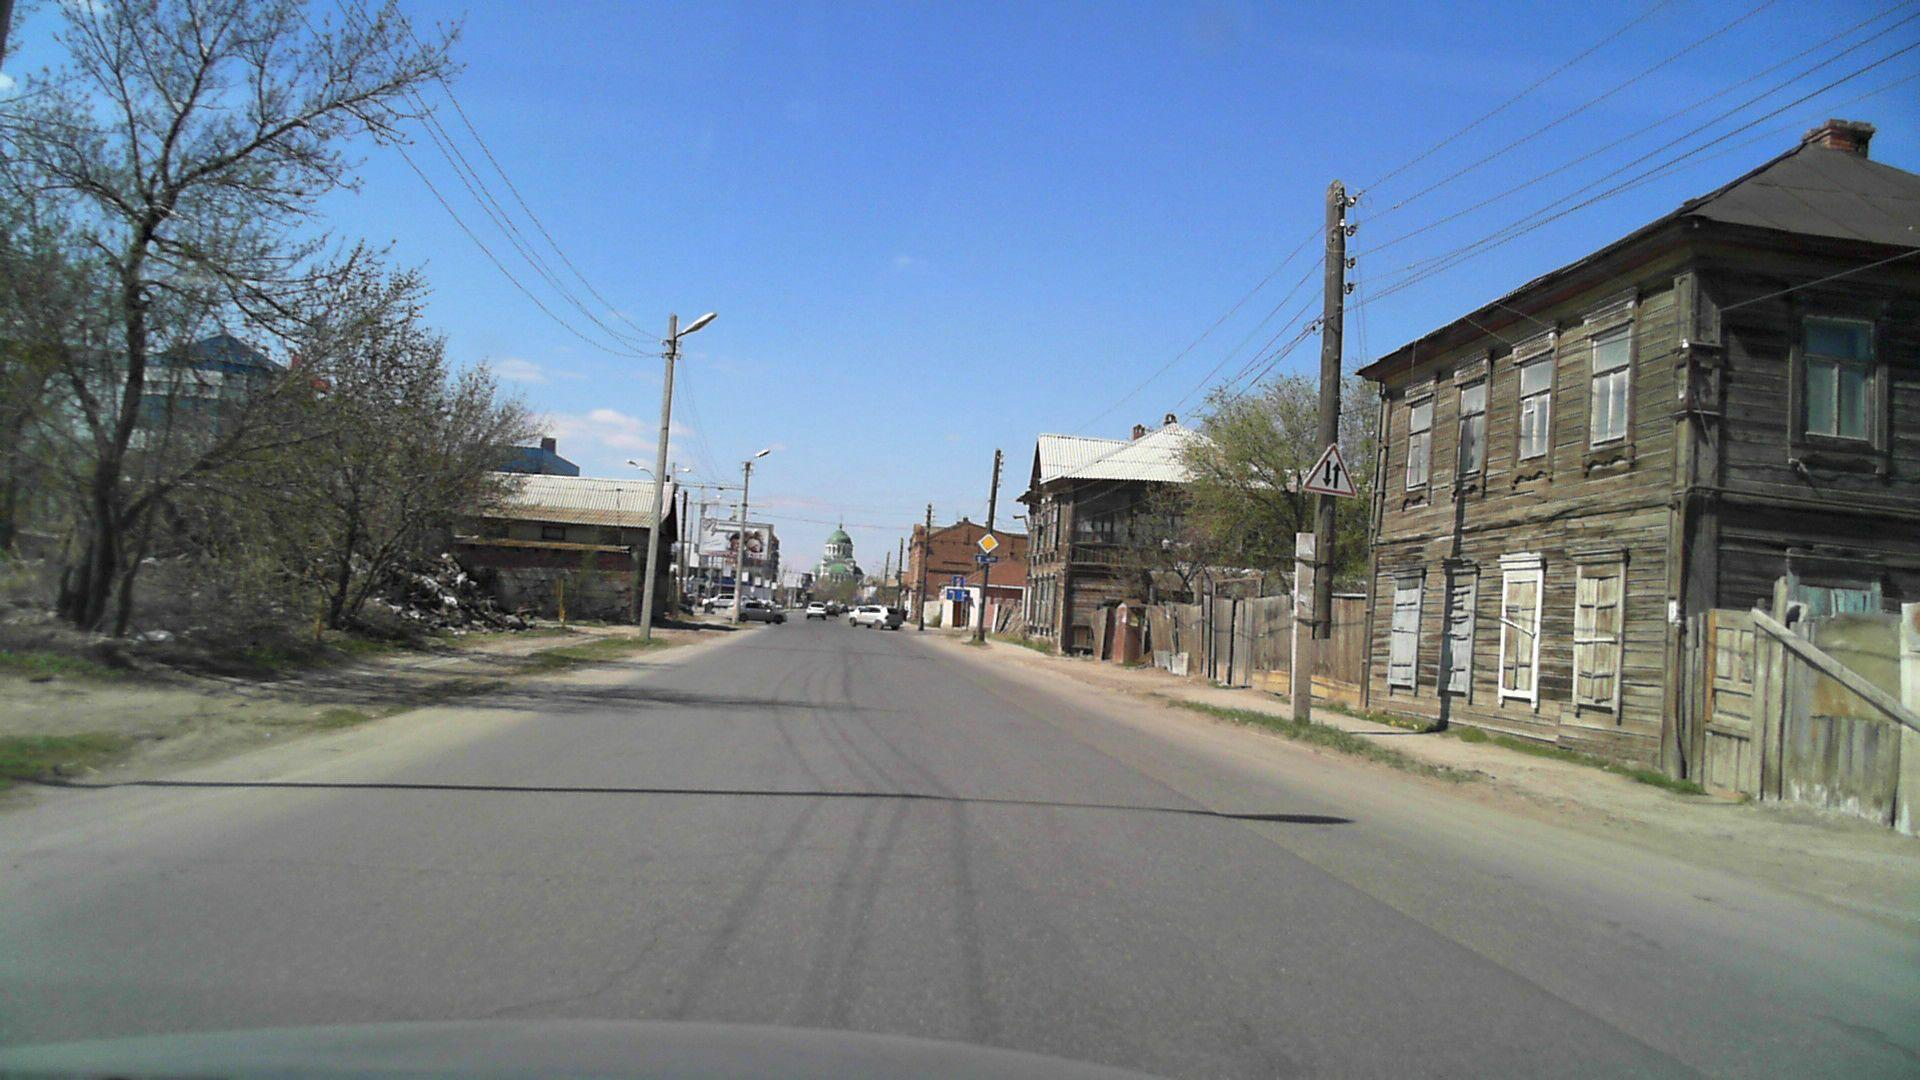1_21: (1302, 442, 1358, 498)
2_1: (976, 533, 1000, 554)
5_15_1: (947, 589, 969, 601)
5_6: (953, 576, 964, 588)
6_15_1: (976, 555, 998, 564)
